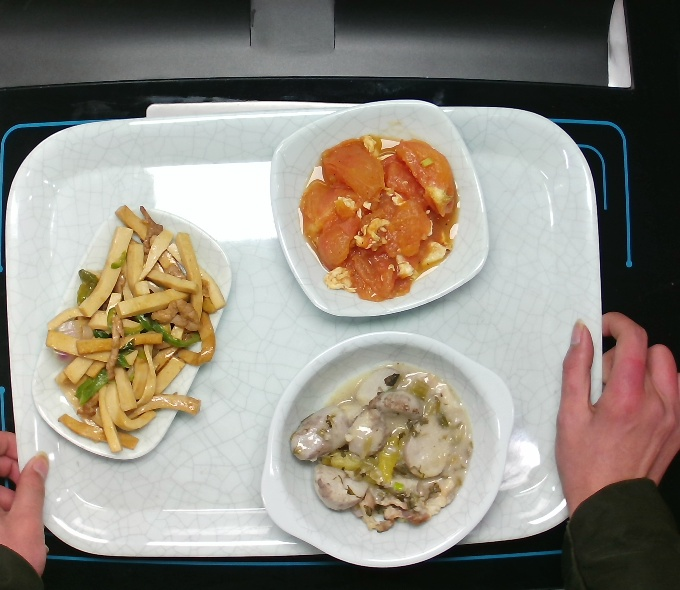wcq-FanQieChaoDan: (293, 127, 465, 306)
wcq-QianYeDouFu: (40, 192, 223, 460)
wcq-YangYu: (277, 356, 476, 543)
